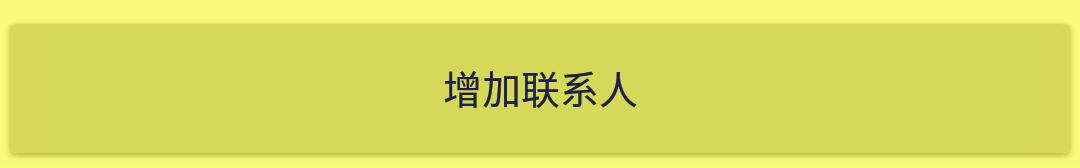Button: (1, 1, 1079, 167)
